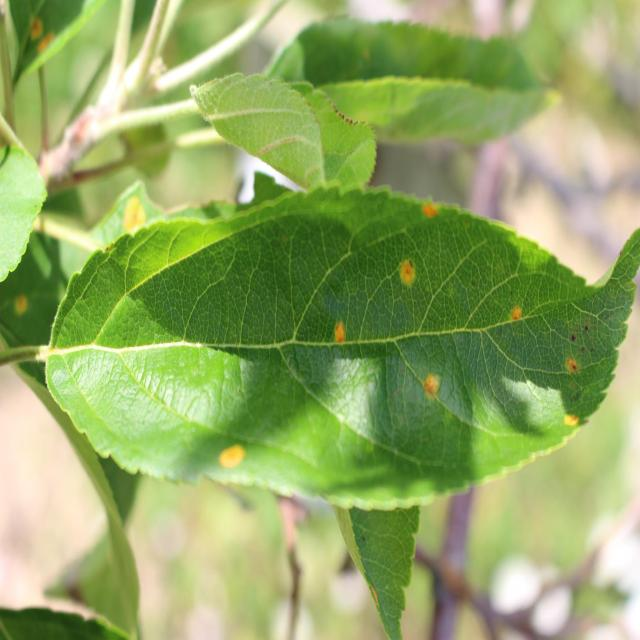Rust: (206, 428, 256, 480), (416, 365, 446, 419), (328, 308, 358, 360), (397, 254, 425, 297), (412, 199, 448, 229), (557, 402, 582, 436), (506, 292, 523, 338), (560, 348, 584, 377)
